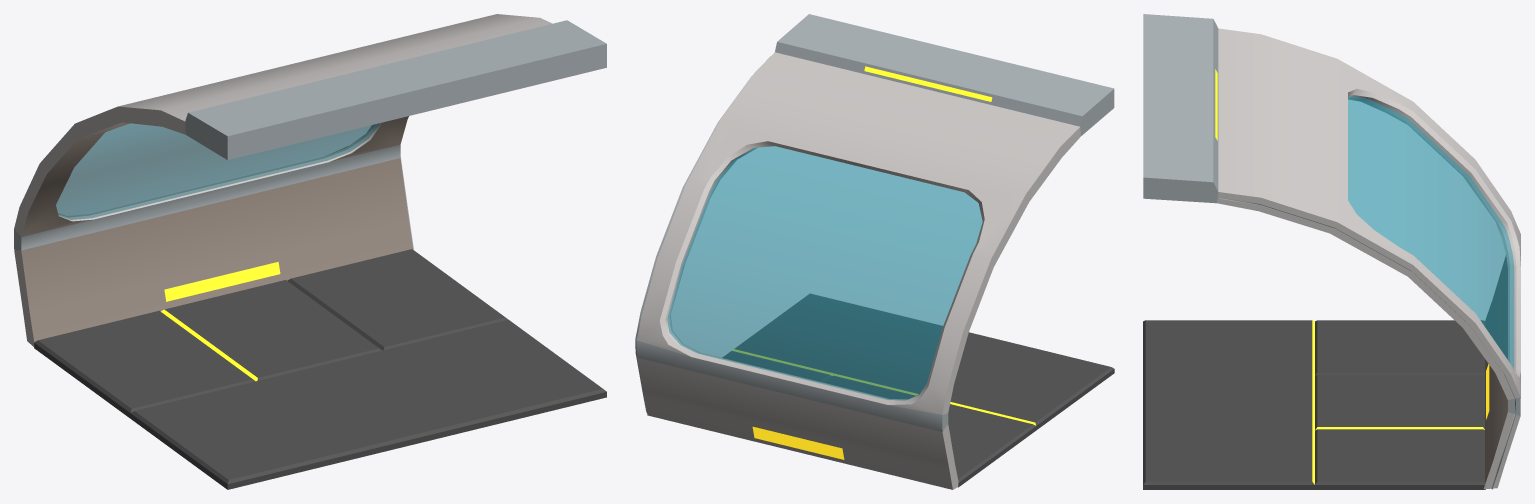
Rendered from wall_arch_window.glb.
3 renders of one model, left to right at view 1: azimuth 30°, elevation 25°; view 2: azimuth 150°, elevation 25°; view 3: azimuth 270°, elevation 25°, orthographic. The views are drawn at different scales.
Parts seen in each view (by area): view 1: wall_arch_window, wall_floor, wall_arch_window.001, wall_arch_window.002; view 2: wall_arch_window, wall_arch_window.001, wall_arch_window.002, wall_floor, quarter_solid_connector.001; view 3: wall_floor, wall_arch_window, wall_arch_window.001, wall_arch_window.002, quarter_solid_connector.001.
Boxes of the visible parts, left/top/right/bottom form: wall_arch_window: left=14, top=14, right=606, bottom=347; wall_floor: left=34, top=249, right=606, bottom=489; wall_arch_window.001: left=56, top=123, right=380, bottom=219; wall_arch_window.002: left=56, top=124, right=374, bottom=216; wall_arch_window: left=637, top=14, right=1114, bottom=489; wall_arch_window.001: left=668, top=146, right=982, bottom=399; wall_arch_window.002: left=670, top=146, right=981, bottom=398; wall_floor: left=722, top=294, right=1114, bottom=487; quarter_solid_connector.001: left=635, top=56, right=770, bottom=412; wall_floor: left=1143, top=320, right=1485, bottom=489; wall_arch_window: left=1143, top=14, right=1520, bottom=489; wall_arch_window.001: left=1348, top=96, right=1513, bottom=368; wall_arch_window.002: left=1348, top=98, right=1509, bottom=361; quarter_solid_connector.001: left=1218, top=197, right=1515, bottom=489.
Size of what is drawn, in the model's own units: 3.04 by 2.67 by 2.93.
